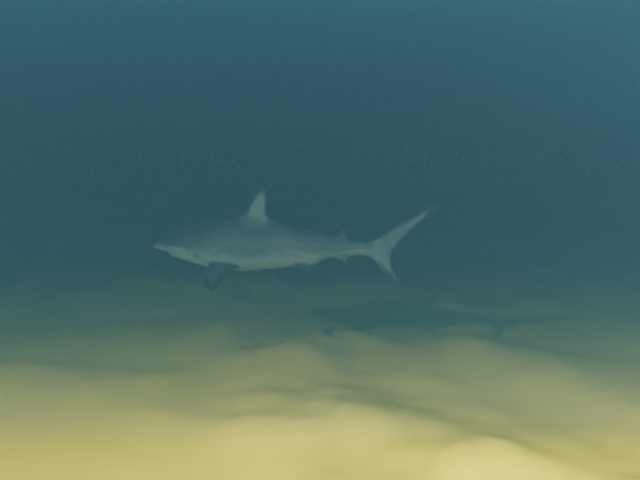Carribean Shark.001: (152, 187, 437, 290)
